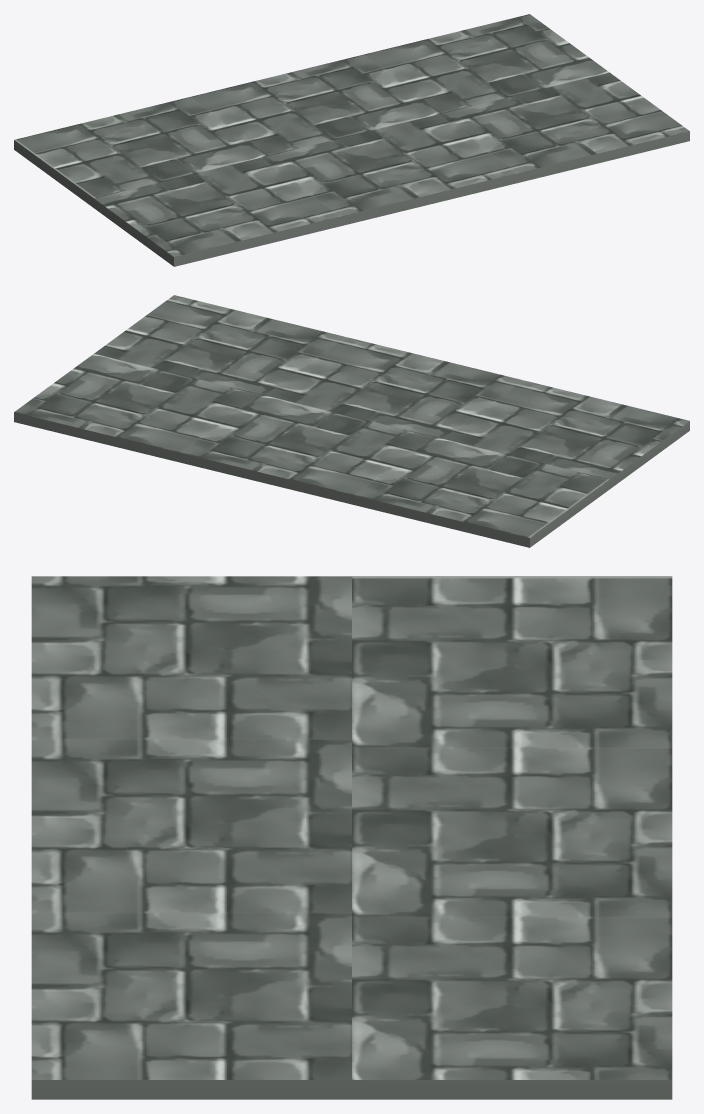
The model's file is SM_Env_Floor_03.fbx.
3 views of the same model, one above another, from view 1: azimuth 30°, elevation 25°; view 2: azimuth 150°, elevation 25°; view 3: azimuth 270°, elevation 25° (orthographic). The views are drawn at different scales.
Parts seen in each view (by area): view 1: SM_Env_Floor_03; view 2: SM_Env_Floor_03; view 3: SM_Env_Floor_03.
Boxes of the visible parts, x1,y1,x2,y2 form: SM_Env_Floor_03: (14, 14, 689, 266); SM_Env_Floor_03: (14, 295, 689, 547); SM_Env_Floor_03: (31, 576, 672, 1099).
Bounding box in the file's own units: 683 × 12.44 × 367.
Materials: 1 (1 with a texture image).
